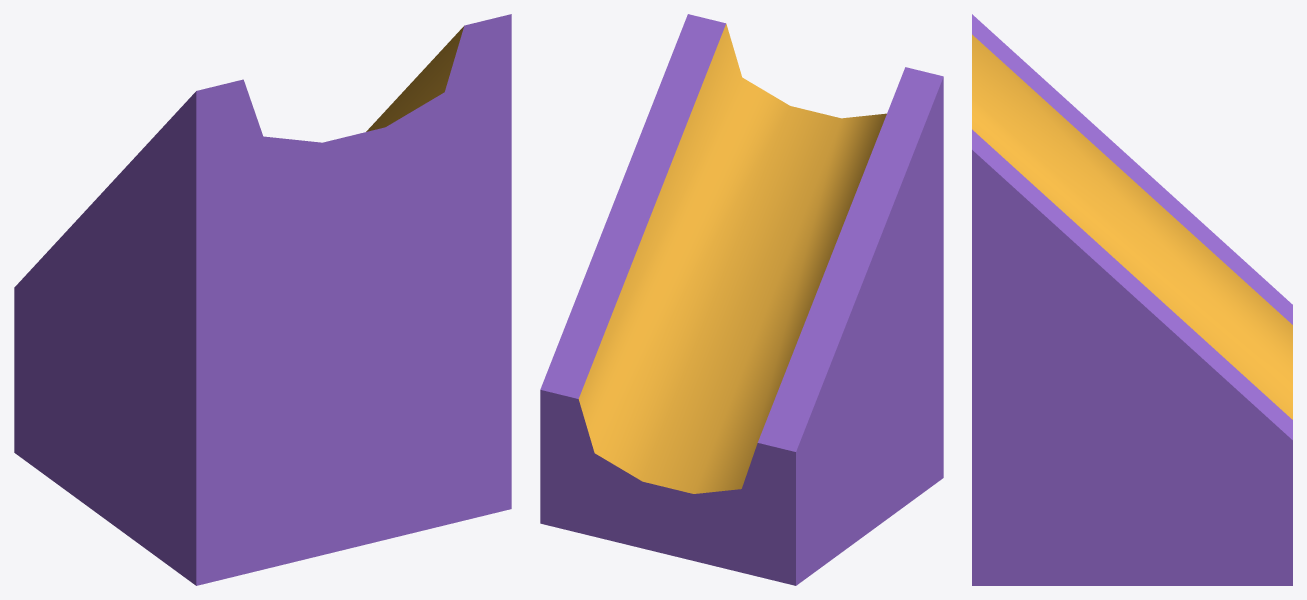
File: slant_solid_c.glb
3 renders of one model, left to right at view 1: azimuth 30°, elevation 25°; view 2: azimuth 150°, elevation 25°; view 3: azimuth 270°, elevation 25°, orthographic. The views are drawn at different scales.
Visible parts, largest first — view 1: slant-solid-c; view 2: slant-solid-c; view 3: slant-solid-c.
Part boxes in pixels (x1,y1,x2,y2): slant-solid-c: (14,14,511,585); slant-solid-c: (540,14,943,585); slant-solid-c: (972,14,1292,585).
Bounding box in the file's own units: 1 × 1.5 × 1.
1 material, 1 textured.
